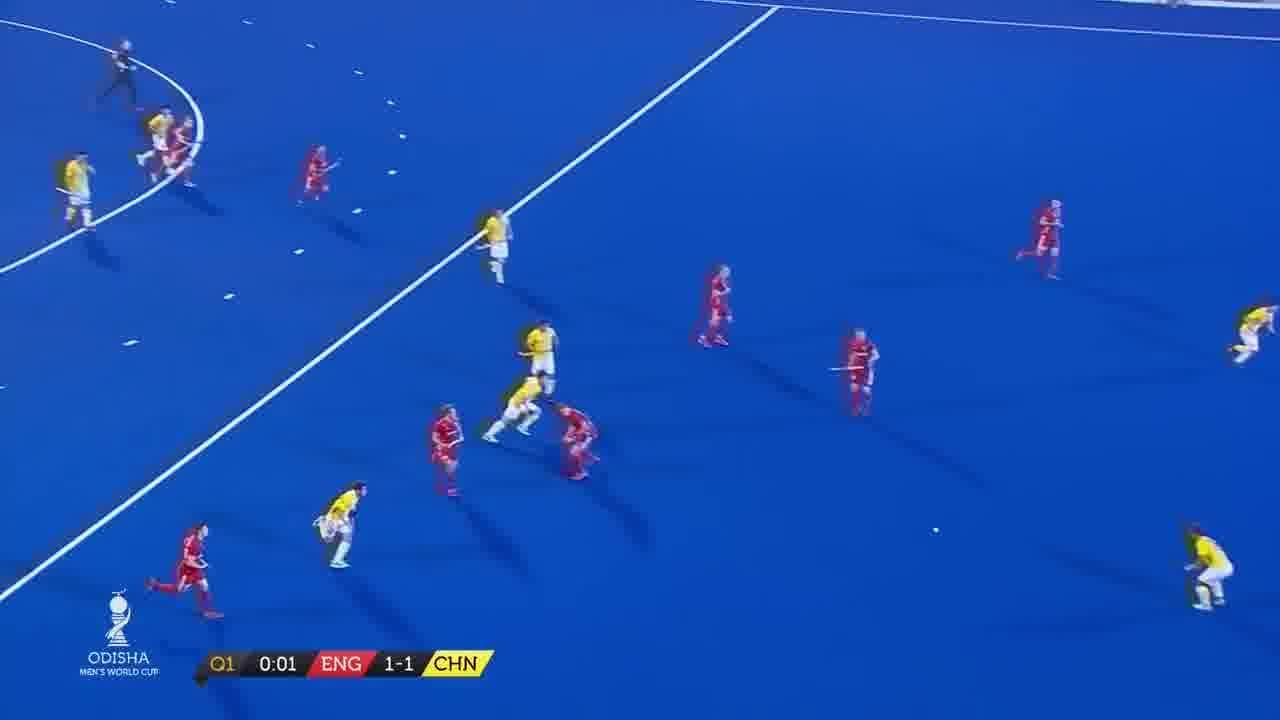ball: (925, 520, 947, 540)
